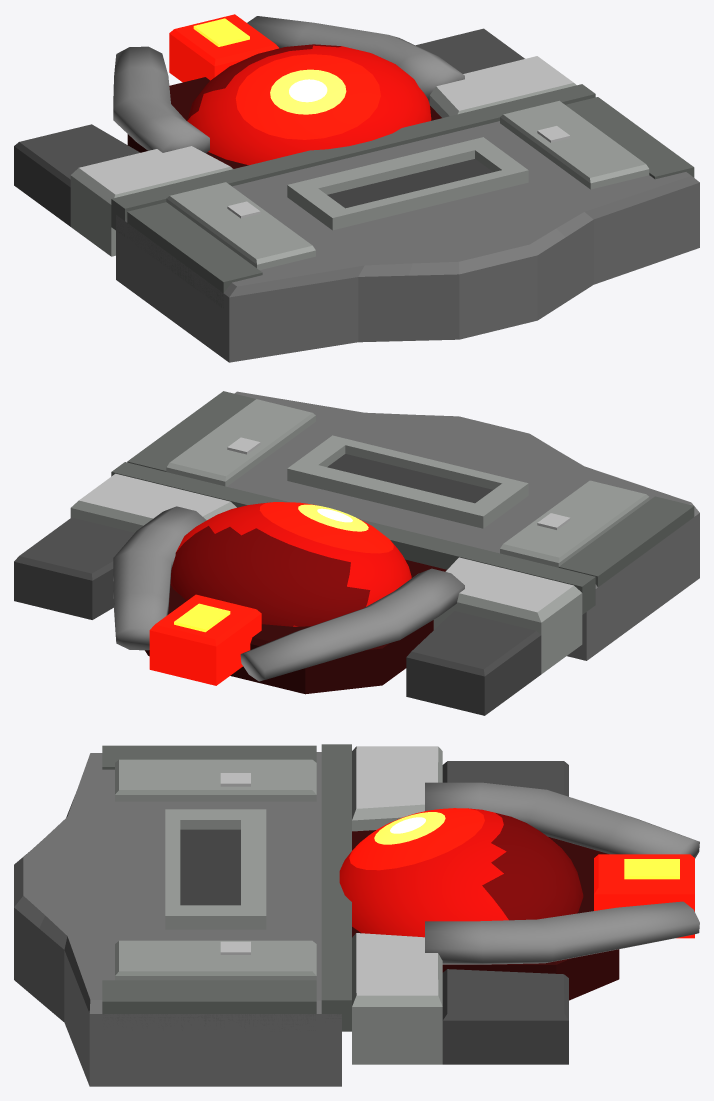
The model's file is newshk-281.glb.
The picture shows the model from 3 angles, top to bottom: view 1: azimuth 30°, elevation 25°; view 2: azimuth 150°, elevation 25°; view 3: azimuth 270°, elevation 25°; orthographic projection. The views are drawn at different scales.
Visible parts, largest first — view 1: newshk-281; view 2: newshk-281; view 3: newshk-281.
Part boxes in pixels (bbox=[...]): newshk-281: bbox=[14, 14, 699, 362]; newshk-281: bbox=[14, 391, 699, 715]; newshk-281: bbox=[14, 744, 699, 1086].
Size of the model in its own units: 2 by 0.5199 by 2.27.
